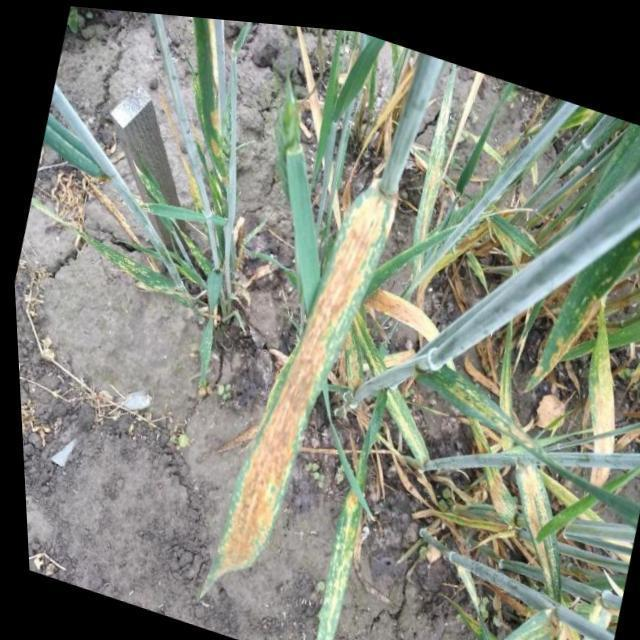Septoria: (192, 178, 394, 594), (304, 481, 355, 639), (508, 448, 554, 593), (582, 288, 610, 424), (364, 281, 434, 333), (588, 423, 609, 442), (584, 455, 604, 474)
